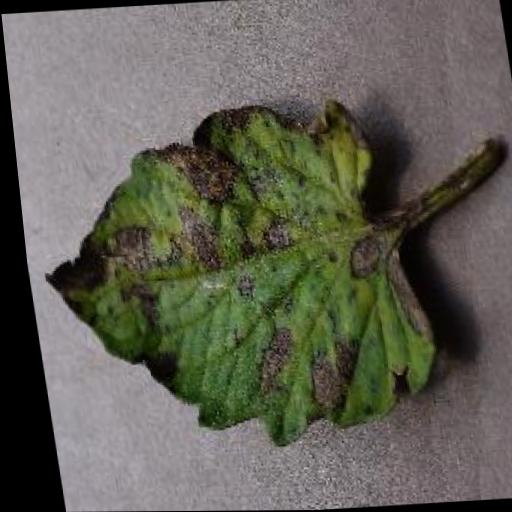Early Blight: (13, 88, 449, 463)
